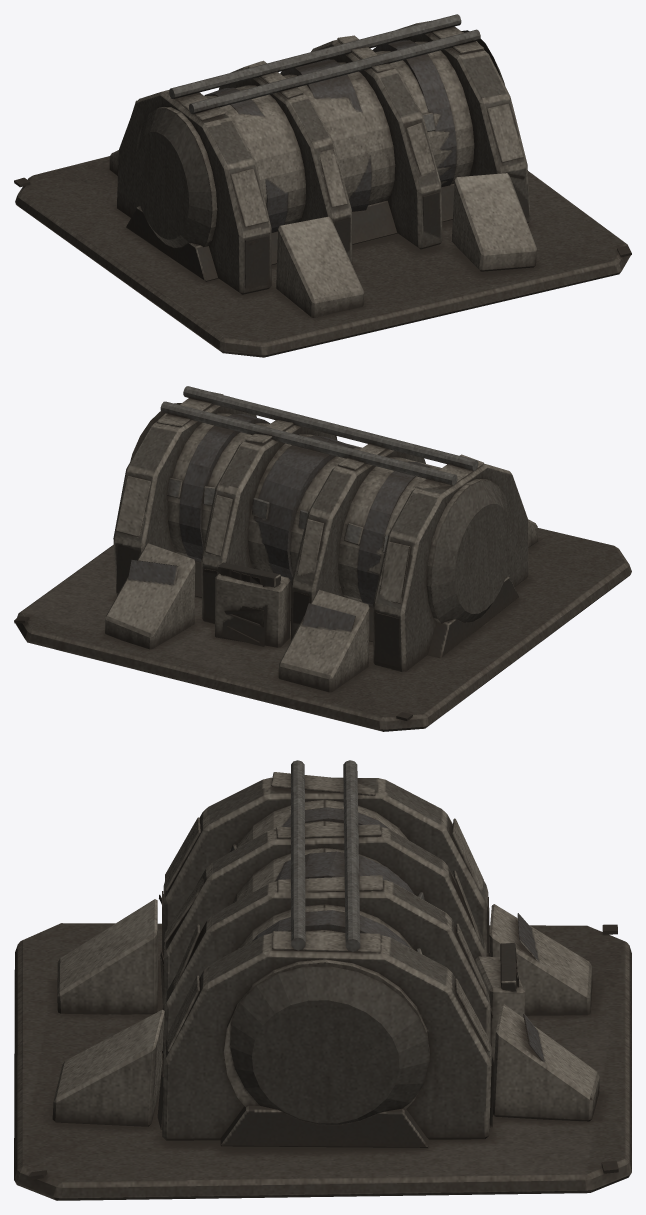
The model's file is ord_advdepot_wreck.fbx.
3 views of the same model, one above another, from view 1: azimuth 30°, elevation 25°; view 2: azimuth 150°, elevation 25°; view 3: azimuth 270°, elevation 25° (orthographic). The views are drawn at different scales.
Parts seen in each view (by area): view 1: base_bar; view 2: base_bar; view 3: base_bar.
Boxes of the visible parts, x1,y1,x2,y2 form: base_bar: [14, 14, 631, 357]; base_bar: [14, 386, 631, 731]; base_bar: [14, 760, 631, 1200].
Size of the model in its own units: 2363 by 1134 by 2350.
Materials: 2 (2 with a texture image).
